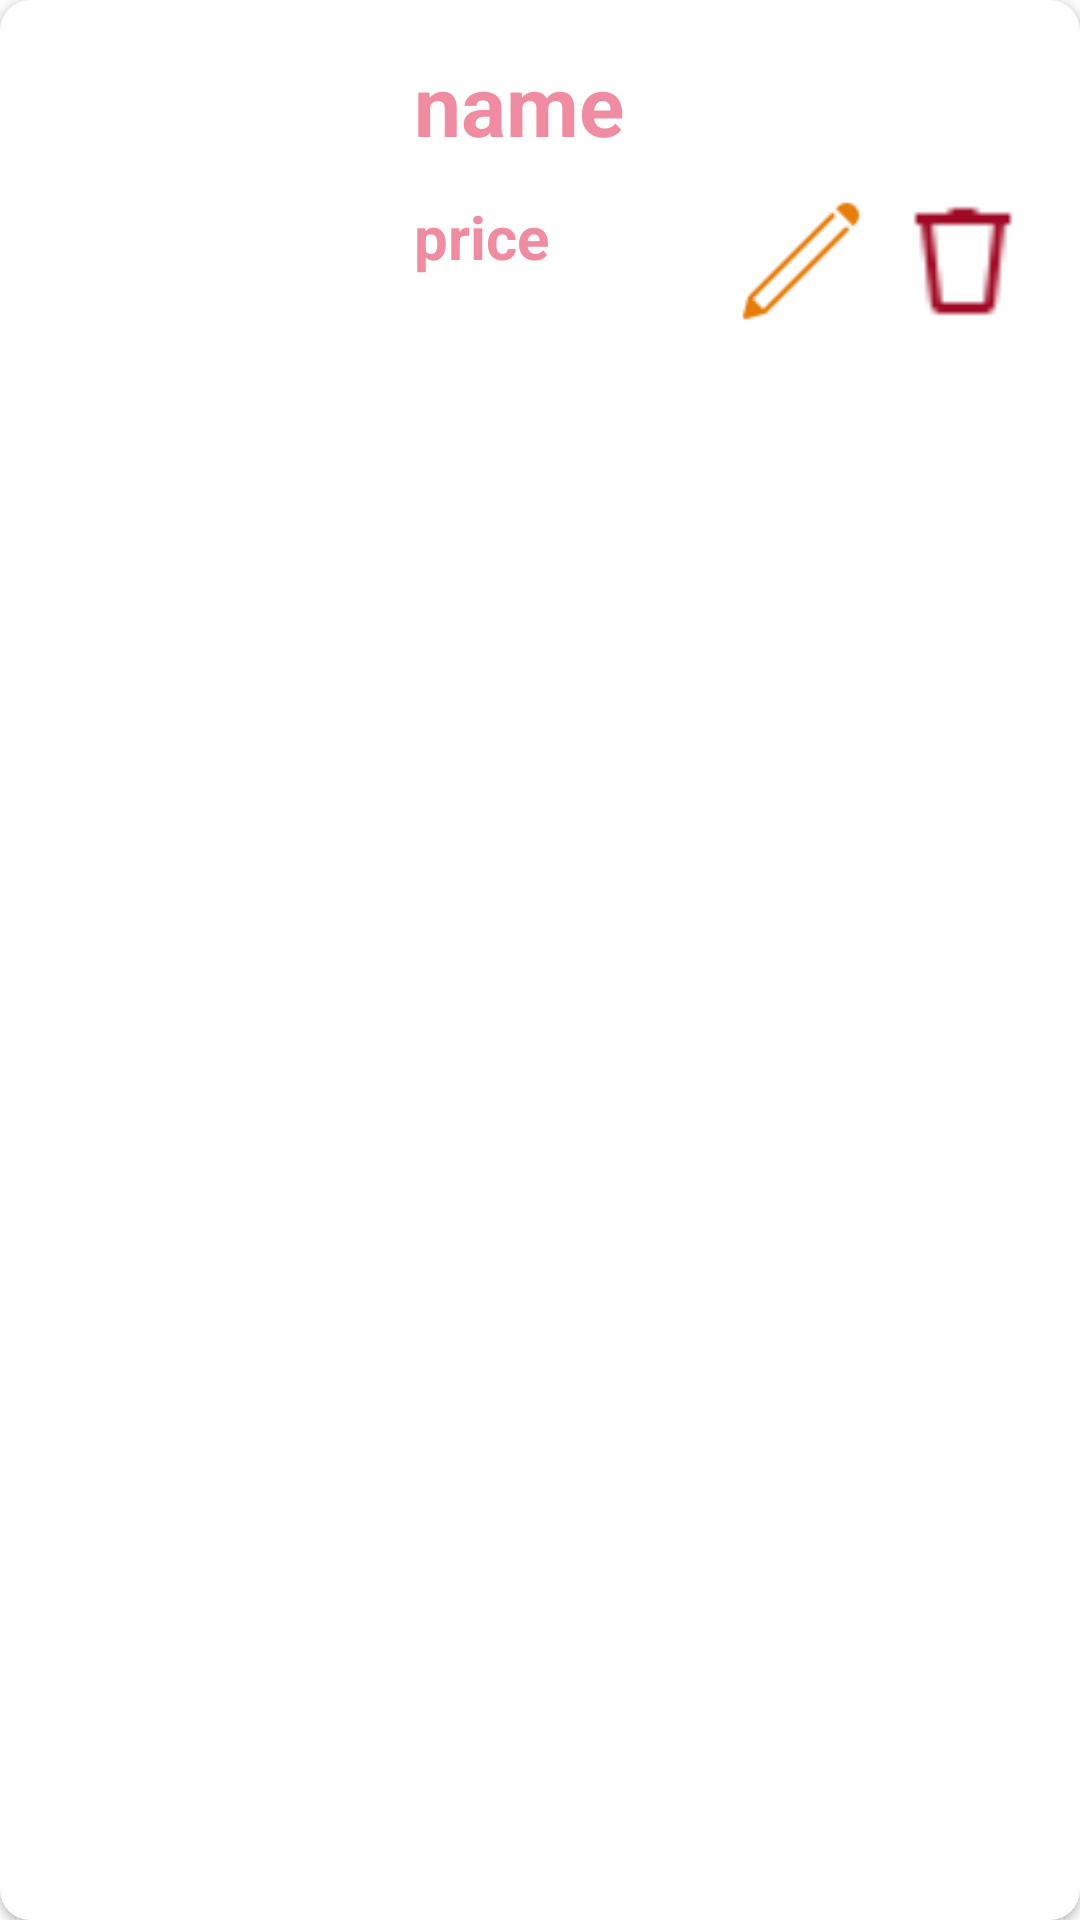

Point at icon controls on the screen. Image size 1080w x 1920h, points as [x,y].
Delete: [963,261]
Edit: [801,261]
